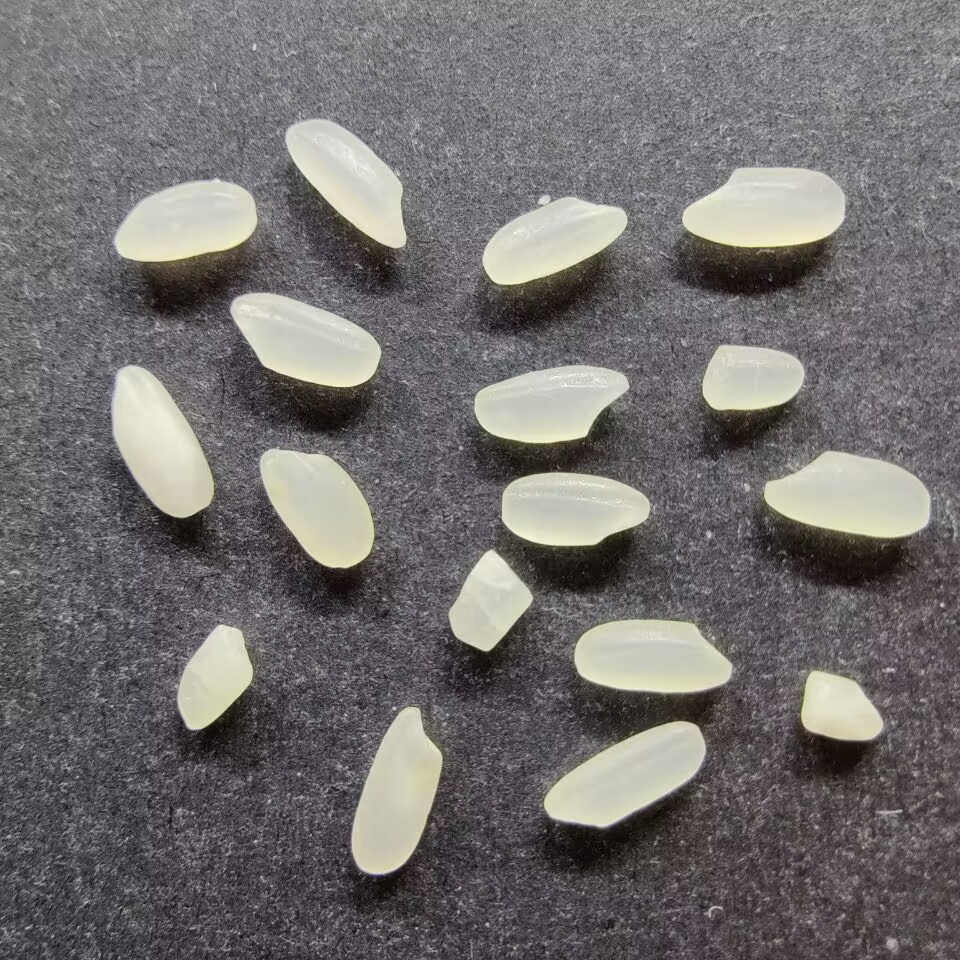broken: (445, 549, 534, 654), (175, 623, 257, 732), (699, 343, 807, 411), (800, 664, 886, 743)
rice: (541, 718, 707, 829), (108, 363, 216, 518), (283, 118, 408, 251), (349, 704, 444, 876), (761, 449, 932, 539), (227, 291, 382, 389), (259, 445, 375, 570), (680, 164, 848, 249), (480, 195, 628, 286), (472, 364, 630, 445), (572, 617, 734, 695), (111, 178, 257, 263), (499, 470, 652, 548)
